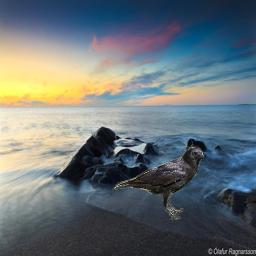Crow: (111, 147, 204, 220)
